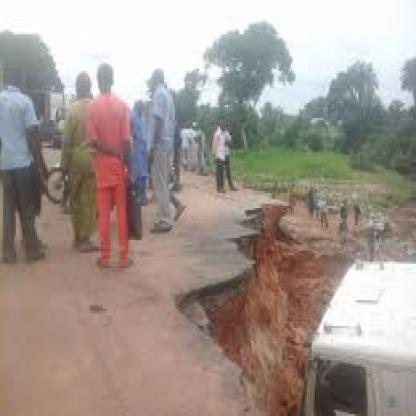car: (299, 235, 416, 416)
